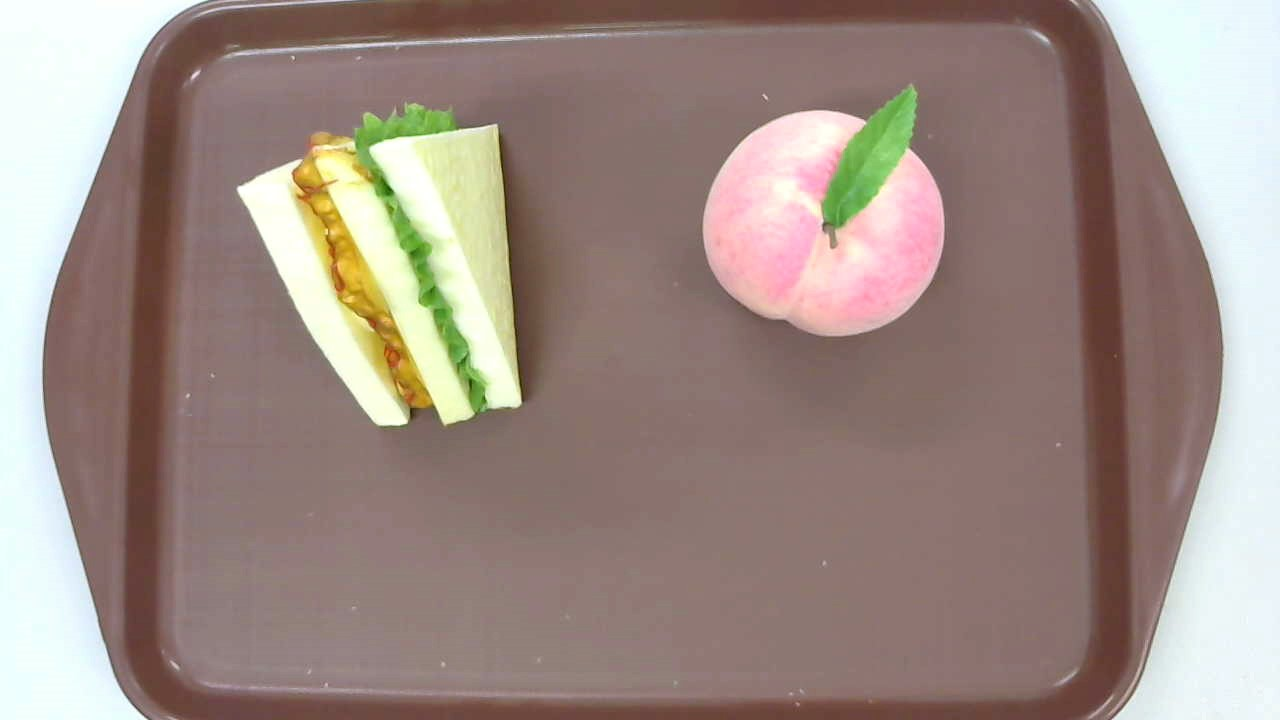peach: (702, 81, 945, 338)
sandwich: (237, 100, 523, 431)
